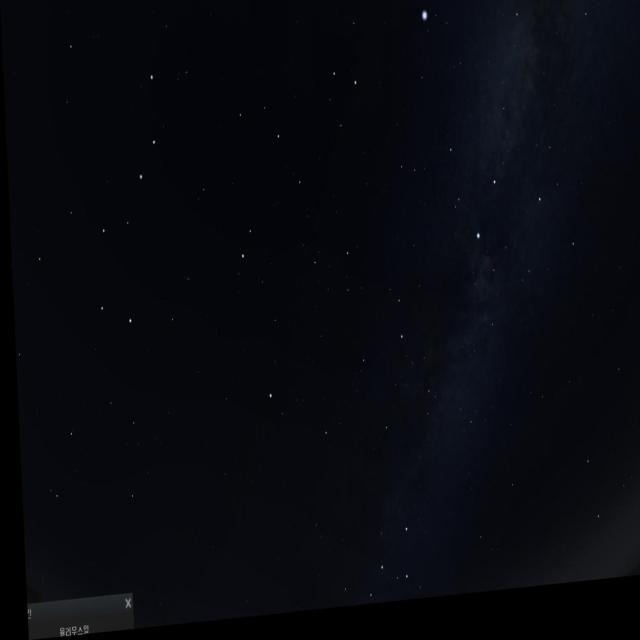cassiopeia: (330, 517, 420, 614)
cygnus: (432, 57, 545, 268)
lyra: (412, 0, 472, 60)
ursa_major: (75, 56, 182, 332)
